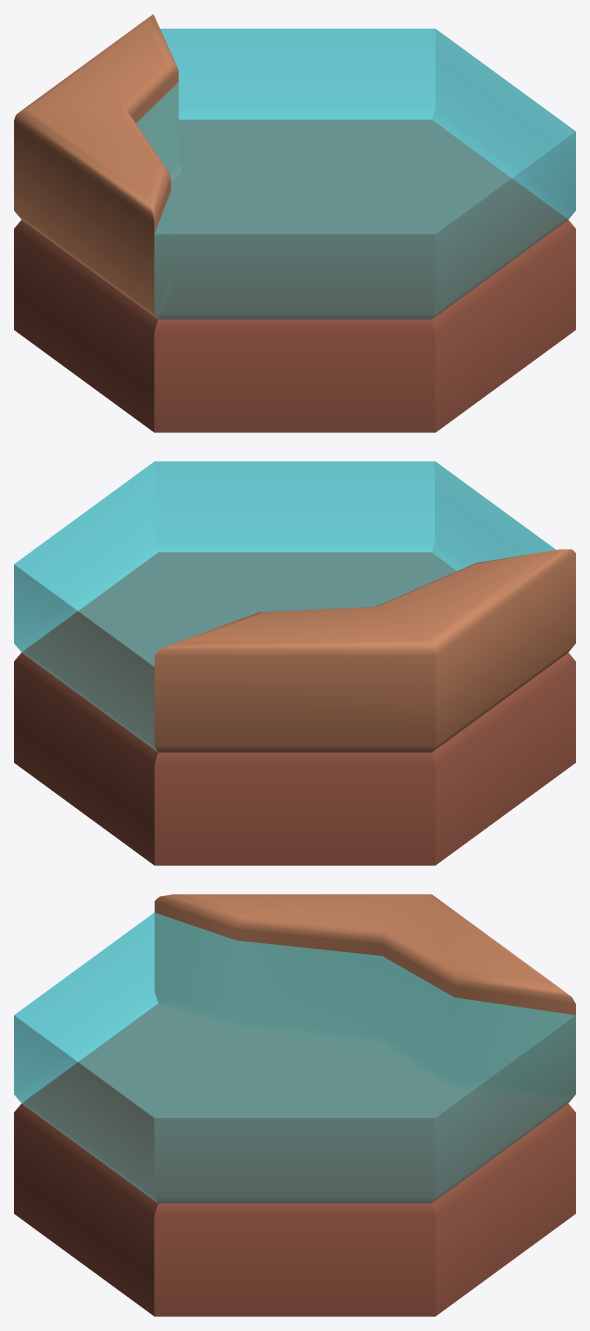
The model's file is hex_rock_waterA_detail.fbx.
3 renders of one model, top to bottom at view 1: azimuth 30°, elevation 25°; view 2: azimuth 150°, elevation 25°; view 3: azimuth 270°, elevation 25°, orthographic.
Parts seen in each view (by area): view 1: hex_rock_waterA_detail; view 2: hex_rock_waterA_detail; view 3: hex_rock_waterA_detail.
Boxes of the visible parts, x1,y1,x2,y2 form: hex_rock_waterA_detail: (14, 14, 575, 432); hex_rock_waterA_detail: (14, 461, 575, 865); hex_rock_waterA_detail: (14, 894, 575, 1316).
Bounding box in the file's own units: 2 × 1 × 2.31.
